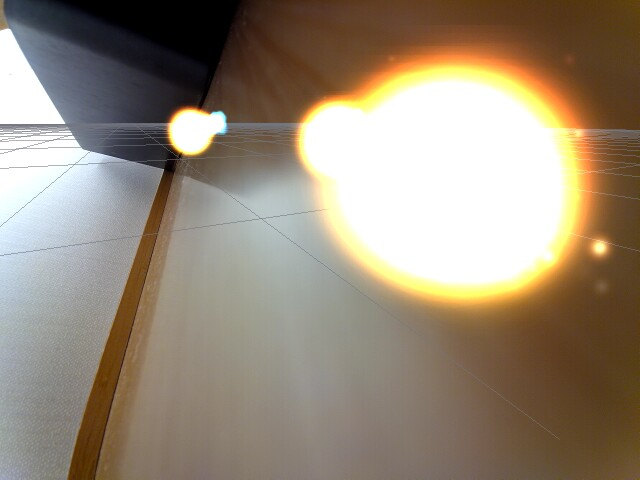fire: (325, 62, 587, 304), (297, 96, 360, 170), (166, 105, 216, 158)
